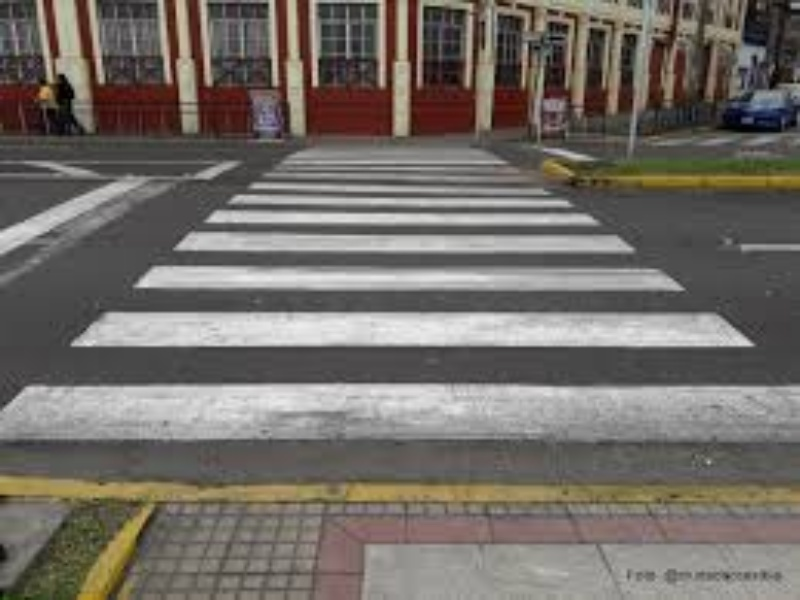zebra cross: (1, 152, 800, 446)
